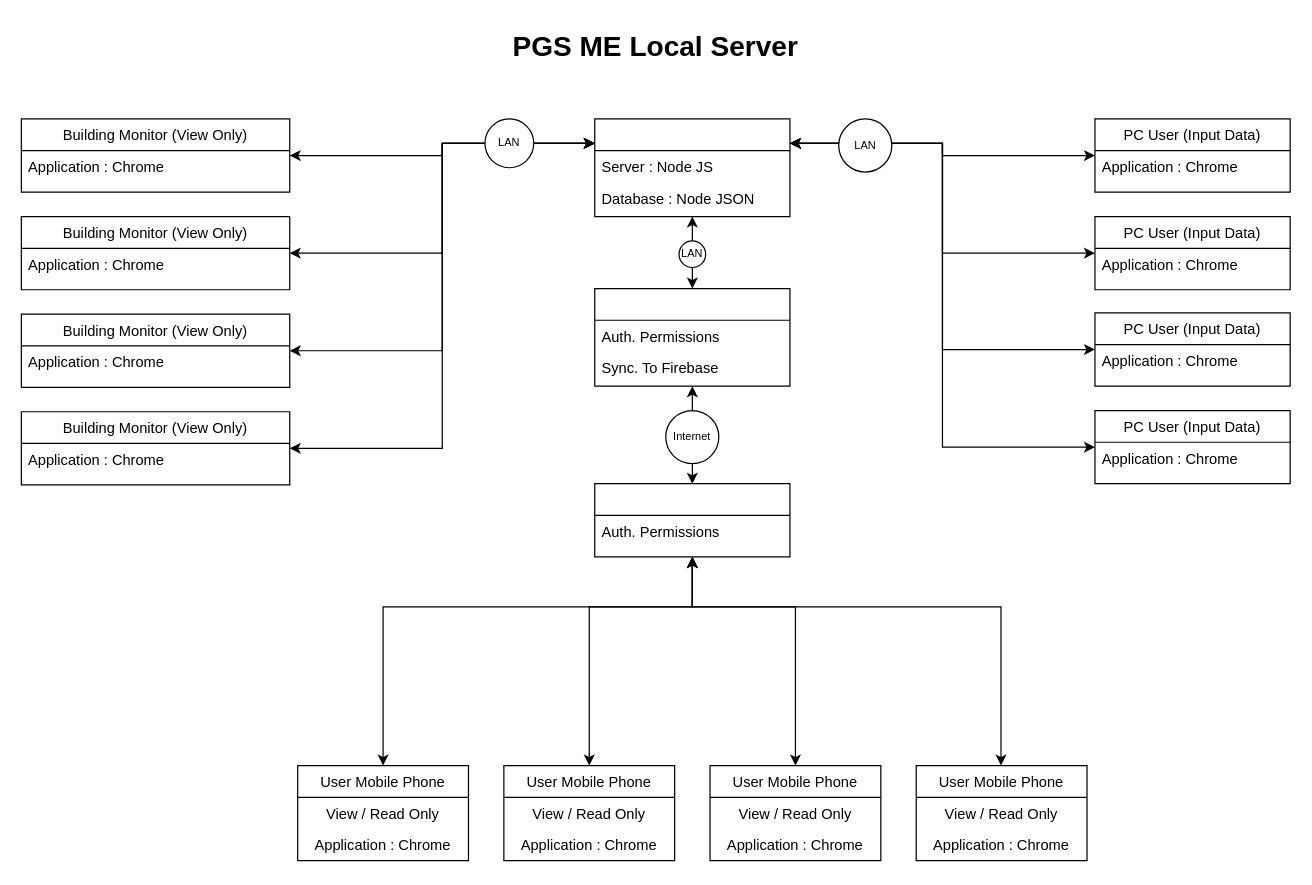
Some shapes in this 1312 by 885 pixel diagram are drawn without their labels. Here are the shapes that lost their labels. From the top down, the box of each, then its label:
(594, 118, 790, 217): Local Server
(594, 287, 790, 386): Administrator
(594, 483, 790, 557): Firebase
